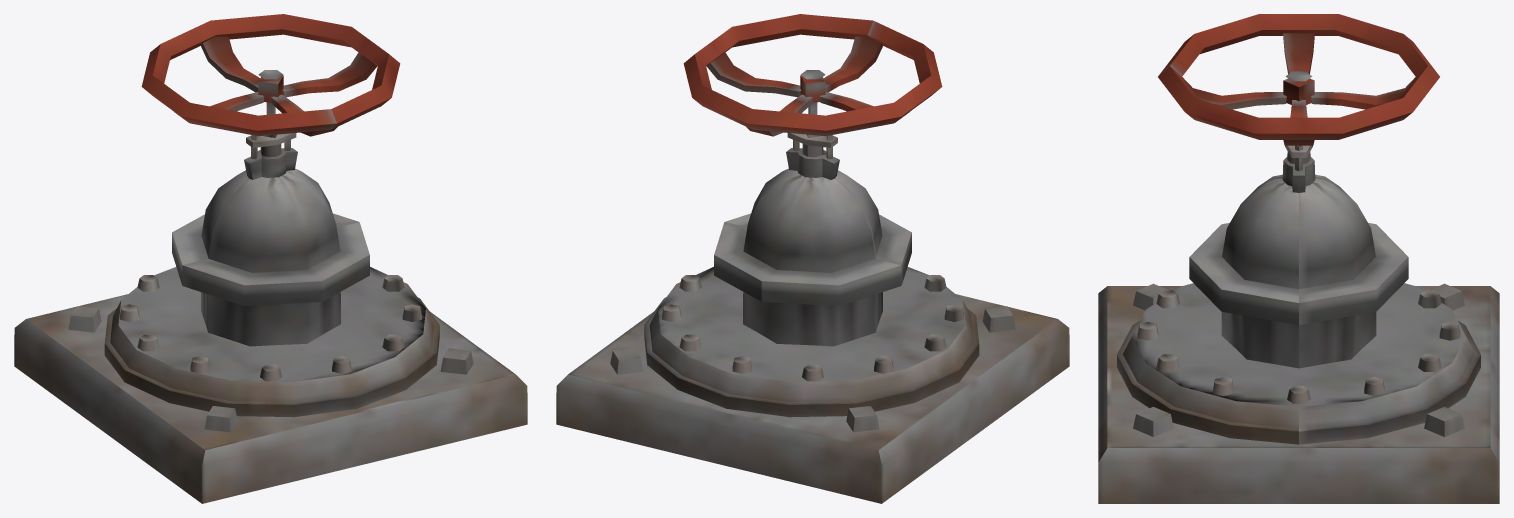
Rendered from Common_OBJ_Pipe_04_Valve.fbx.
3 views of the same model, side by side, from view 1: azimuth 30°, elevation 25°; view 2: azimuth 150°, elevation 25°; view 3: azimuth 270°, elevation 25° (orthographic). The views are drawn at different scales.
Visible parts, largest first — view 1: Common_OBJ_Pipe_04_Valve; view 2: Common_OBJ_Pipe_04_Valve; view 3: Common_OBJ_Pipe_04_Valve.
Part boxes in pixels (x1,y1,x2,y2): Common_OBJ_Pipe_04_Valve: (14,14,527,503); Common_OBJ_Pipe_04_Valve: (556,14,1069,503); Common_OBJ_Pipe_04_Valve: (1098,14,1499,503).
Bounding box in the file's own units: 116 × 113 × 116.
1 material, 1 textured.
